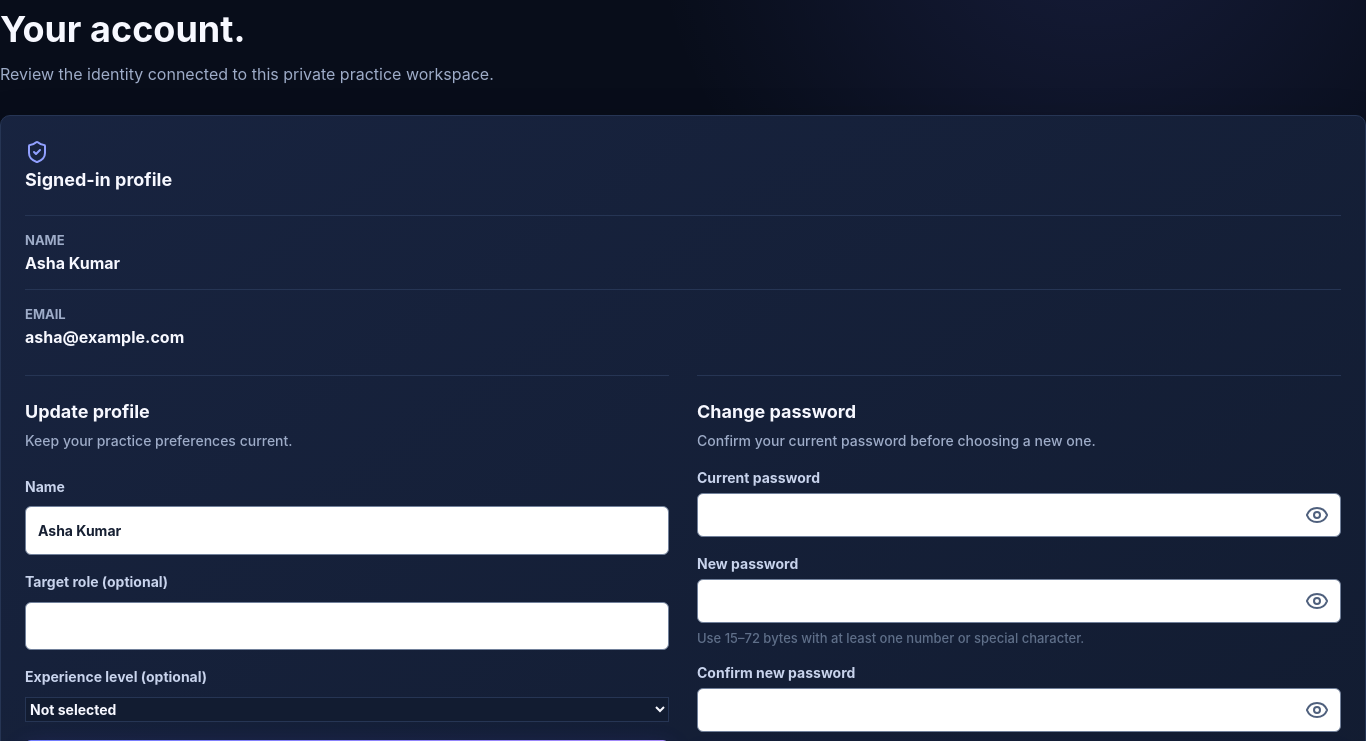
it: AccountPage › updates password and clears credentials after success
In the password field labelled "Current password": (1019, 515) x1=697 y1=493 x2=1341 y2=537, type "secure-password-123"
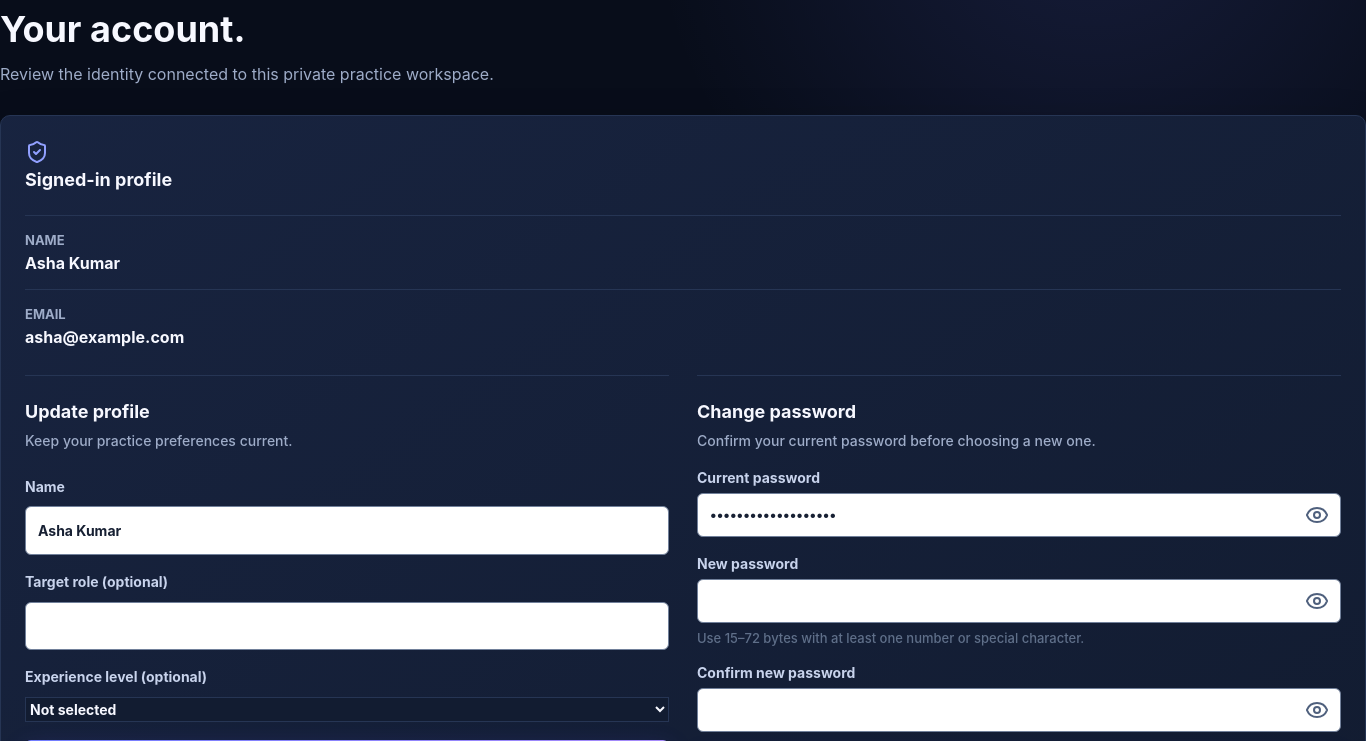
In the password field labelled "New password": (1019, 601) x1=697 y1=579 x2=1341 y2=623, type "new-secure-password-456"
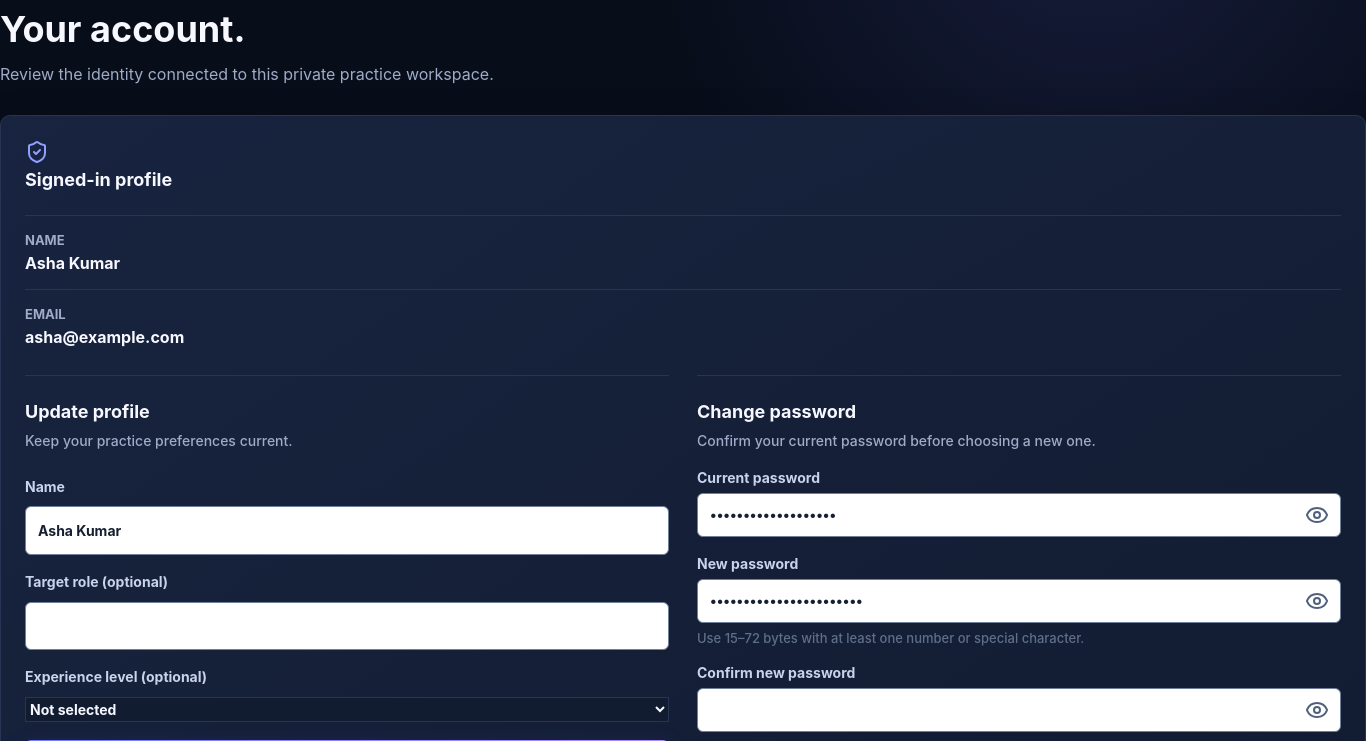
In the password field labelled "Confirm new password": (1019, 710) x1=697 y1=688 x2=1341 y2=732, type "new-secure-password-456"
(page scrolled)
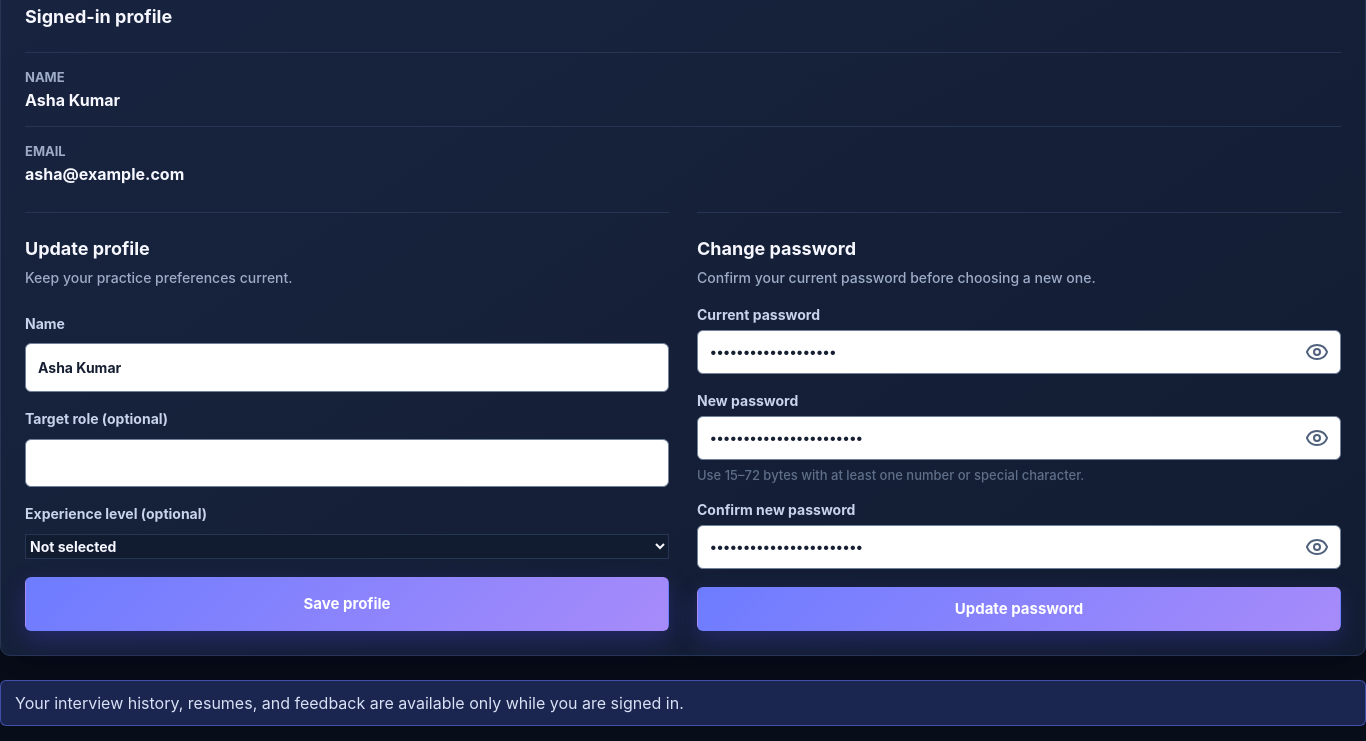
Click the button "Update password": (1019, 609) x1=697 y1=587 x2=1341 y2=631
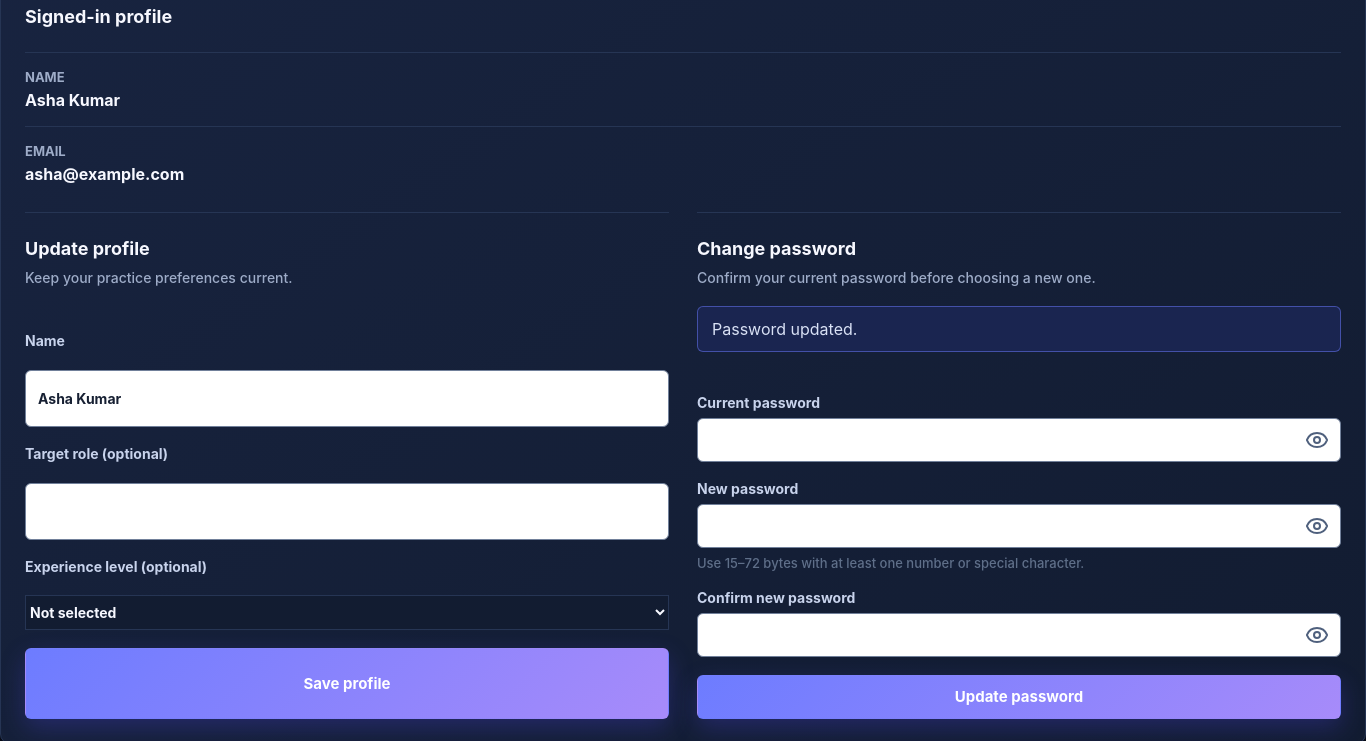
Now the text "Password updated." is shown, box x1=697 y1=306 x2=1341 y2=352
Now the password field labelled "Current password" is empty, box x1=697 y1=418 x2=1341 y2=462
